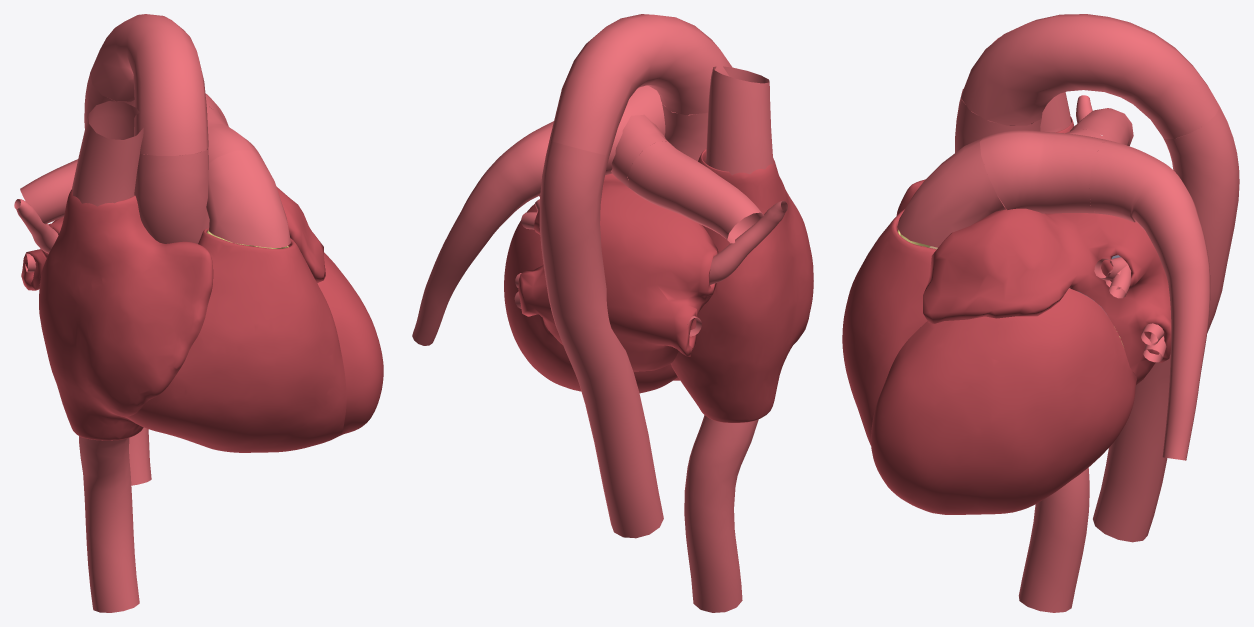
The model's file is heart-v1.glb.
The picture shows the model from 3 angles, left to right: view 1: azimuth 30°, elevation 25°; view 2: azimuth 150°, elevation 25°; view 3: azimuth 270°, elevation 25°; orthographic projection. The views are drawn at different scales.
Parts seen in each view (by area): view 1: myocardium, aorta, pulmonary_arteries, inferior_vena_cava, superior_vena_cava, pulmonary_veins; view 2: myocardium, aorta, pulmonary_arteries, inferior_vena_cava, superior_vena_cava, pulmonary_veins; view 3: myocardium, aorta, pulmonary_arteries, inferior_vena_cava, pulmonary_veins, superior_vena_cava.
Part boxes in pixels (x1,y1,x2,y2): myocardium: (21, 186, 383, 452); aorta: (84, 14, 209, 485); pulmonary_arteries: (20, 93, 290, 248); inferior_vena_cava: (79, 436, 139, 612); superior_vena_cava: (72, 101, 143, 206); pulmonary_veins: (14, 199, 58, 272); myocardium: (504, 149, 813, 422); aorta: (539, 14, 732, 538); pulmonary_arteries: (412, 85, 764, 345); inferior_vena_cava: (684, 415, 758, 612); superior_vena_cava: (705, 66, 773, 175); pulmonary_veins: (514, 199, 787, 336); myocardium: (842, 116, 1171, 514); aorta: (955, 14, 1239, 542); pulmonary_arteries: (897, 108, 1210, 460); inferior_vena_cava: (1018, 467, 1089, 612); pulmonary_veins: (1076, 95, 1166, 362); superior_vena_cava: (992, 37, 1071, 132).
Size of the model in its own units: 2.38 by 4 by 2.31.
